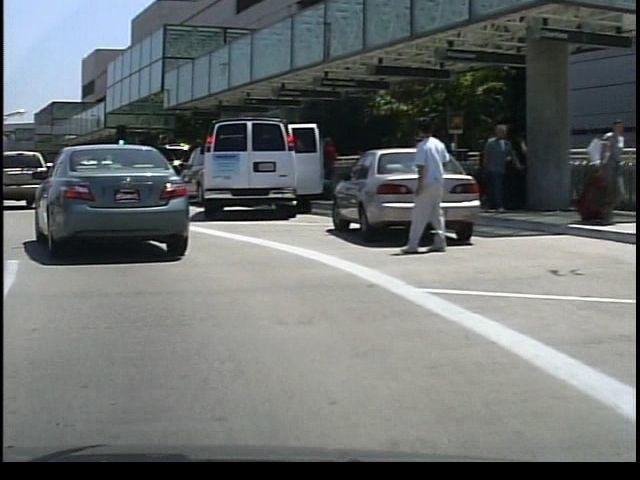person: (396, 112, 446, 255), (584, 114, 624, 221), (479, 119, 521, 214), (315, 132, 337, 199)
